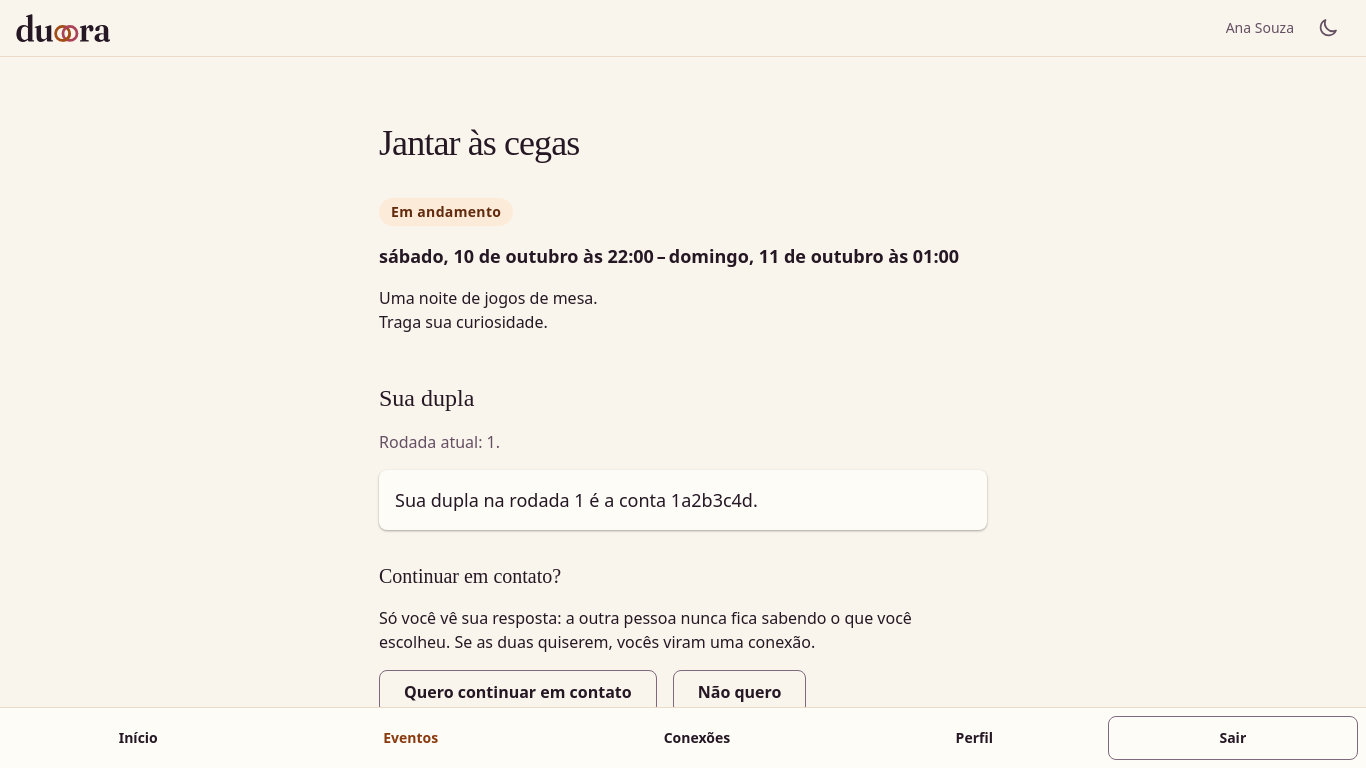
private decision after a round › records "Quero continuar em contato" and shows the own decision
Expected: the text "Sua dupla na rodada 1 é a conta 1a2b3c4d." is shown, [379,470,987,530]
Click the button "Quero continuar em contato".
click(518, 692)  # box [379,670,657,714]
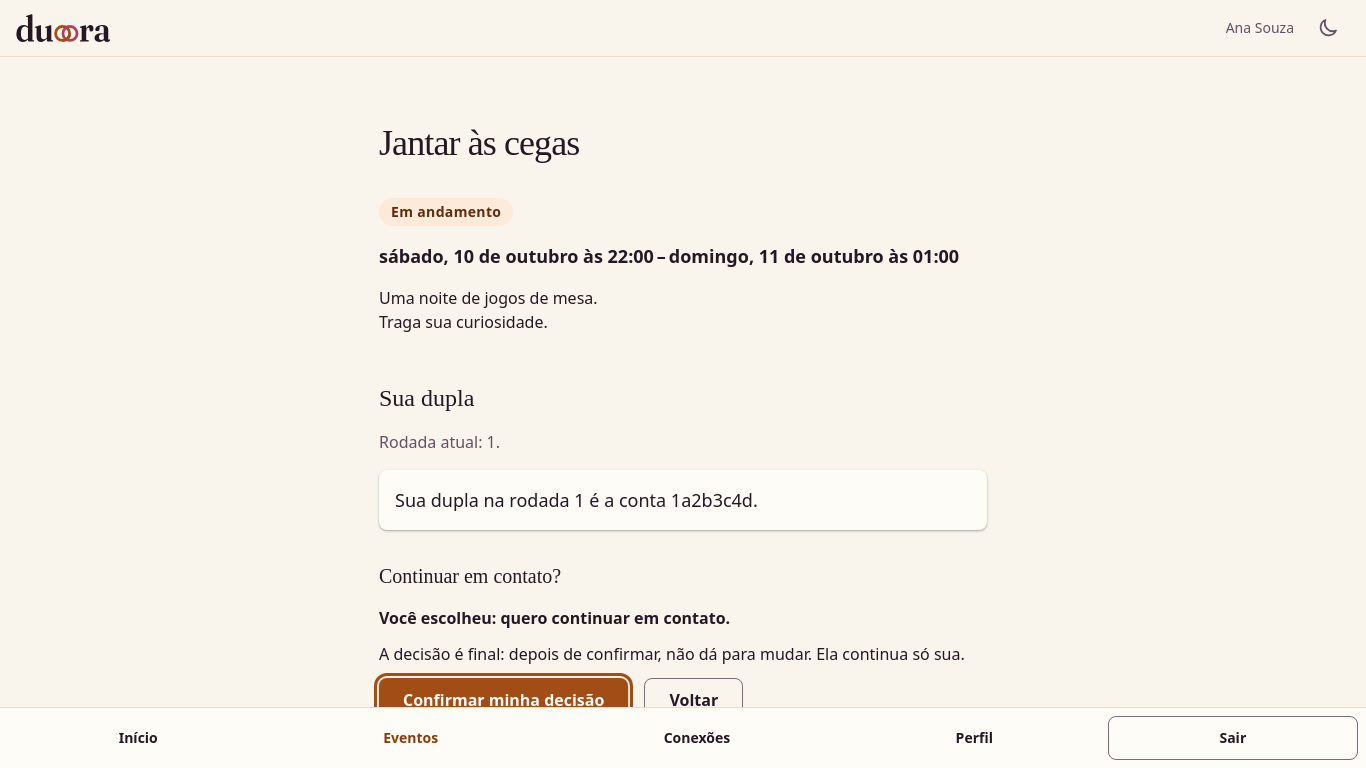
Click the button "Confirmar minha decisão".
click(504, 700)  # box [379,678,628,722]
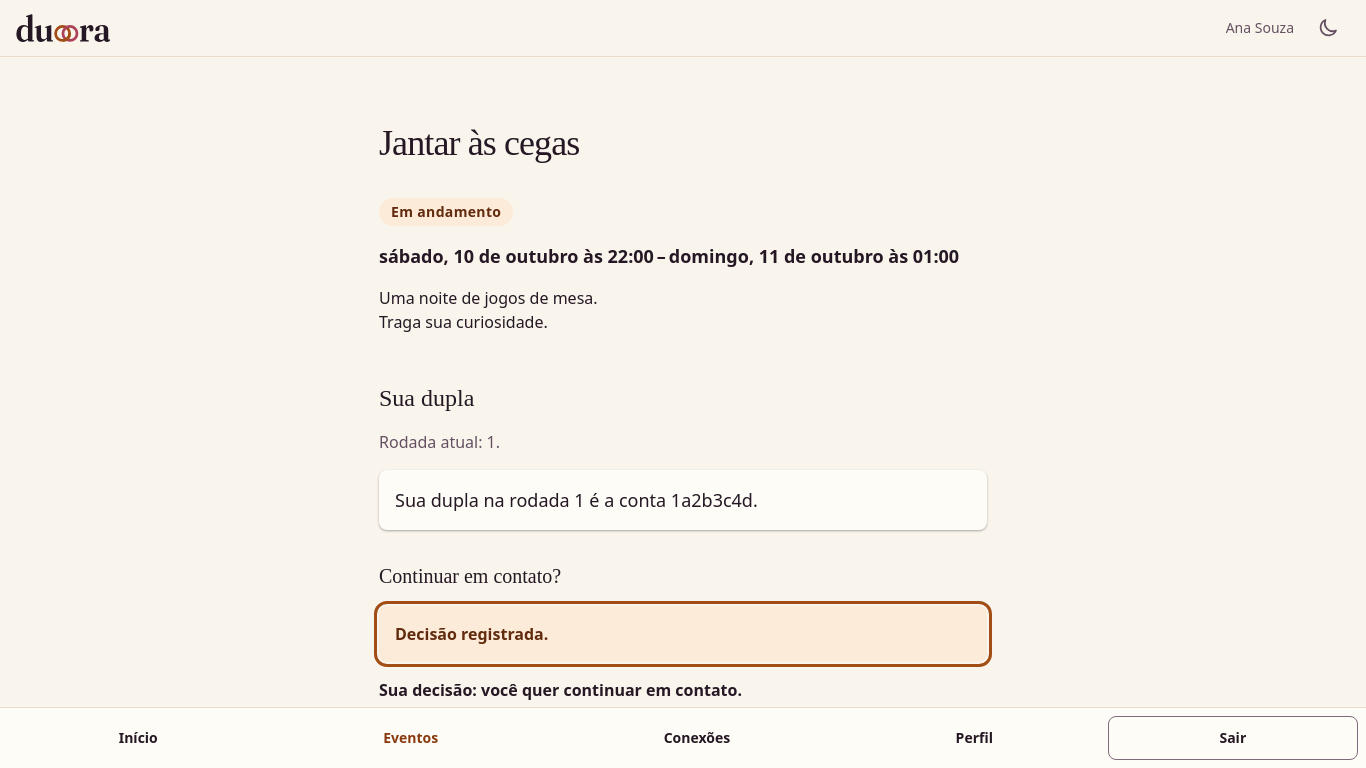
Now the message reads "Decisão registrada.", box [395,623,548,645]
Now the text "Sua decisão: você quer continuar em contato." is shown, box [379,678,742,702]
Now the text "quero continuar em contato" is gone
